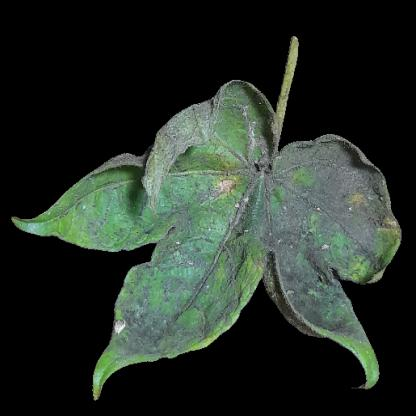sooty: (265, 156, 372, 268), (166, 207, 255, 285), (165, 118, 270, 177), (125, 283, 191, 352), (284, 273, 351, 329), (76, 203, 167, 242)
